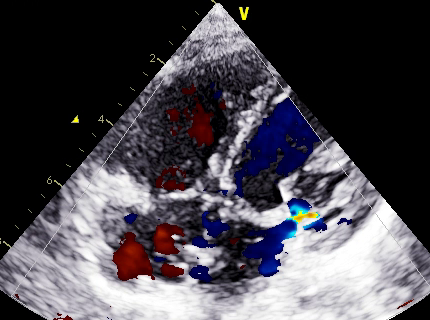MR: (237, 196, 321, 239)
